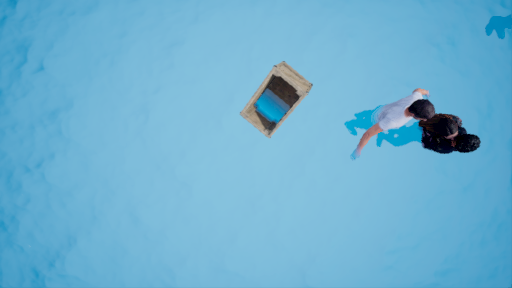person: (341, 86, 488, 167)
